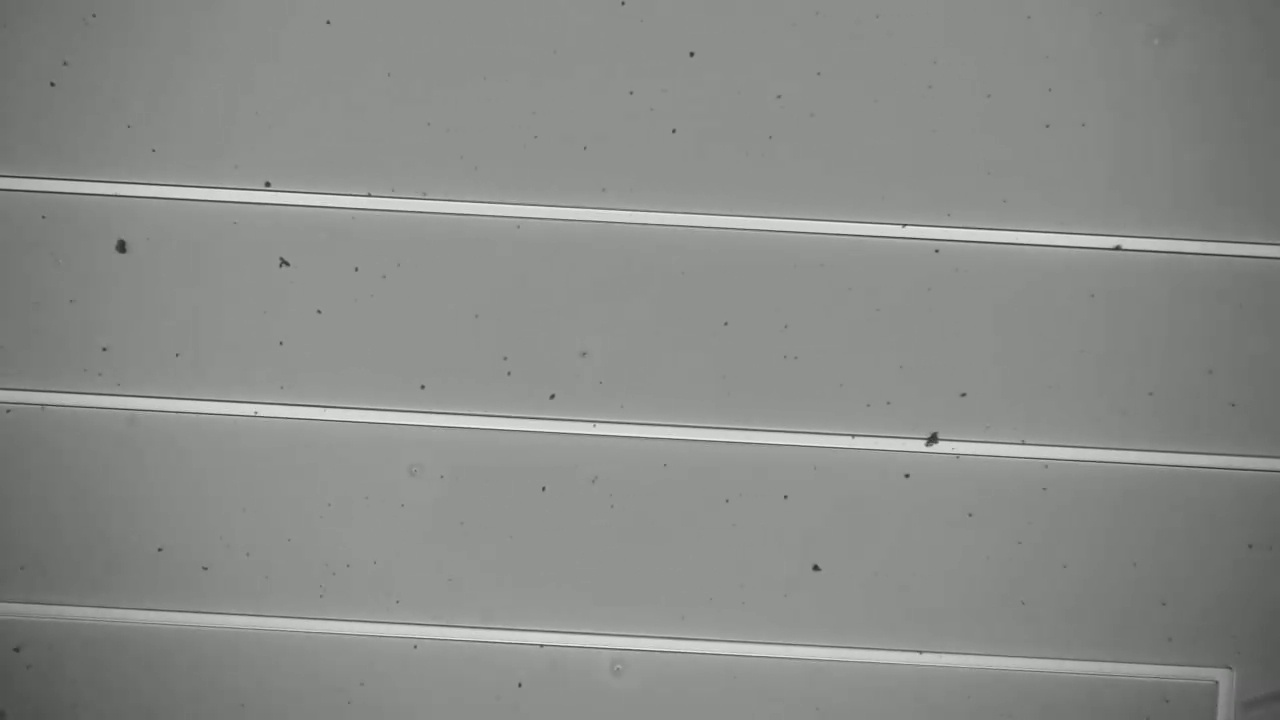stains_enbedded: (918, 423, 955, 460)
